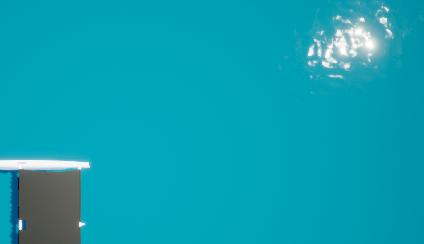boat: (0, 155, 95, 244)
drone: (20, 169, 80, 244)
land_base: (284, 1, 424, 93)
